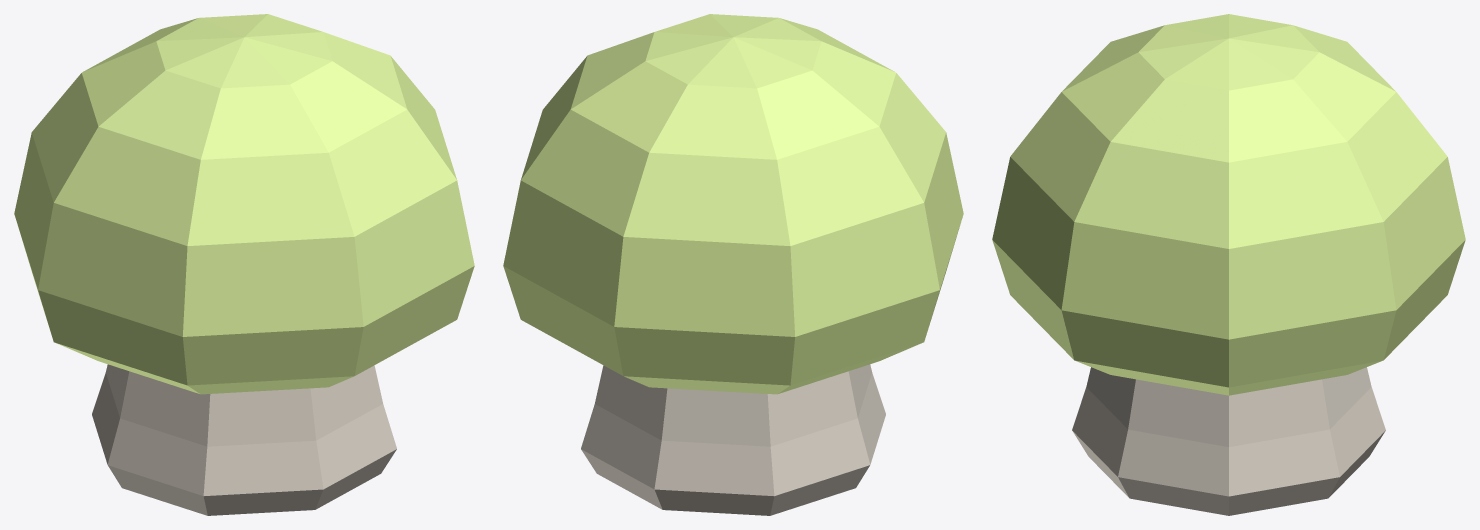
The model's file is FBX_Big_Mushroom_Little.fbx.
3 views of the same model, side by side, from view 1: azimuth 30°, elevation 25°; view 2: azimuth 150°, elevation 25°; view 3: azimuth 270°, elevation 25° (orthographic).
Parts seen in each view (by area): view 1: pSphere6; view 2: pSphere6; view 3: pSphere6.
Boxes of the visible parts, x1,y1,x2,y2 form: pSphere6: (14, 14, 474, 515); pSphere6: (503, 14, 963, 515); pSphere6: (992, 14, 1465, 515).
Size of the model in its own units: 0.7251 by 0.7098 by 0.7251.
Materials: 1 (1 with a texture image).
